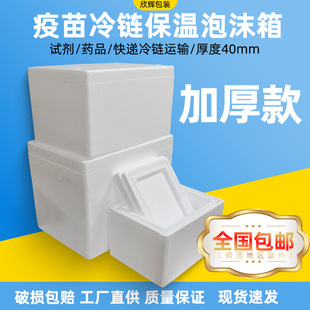Boxes: (28, 63, 223, 286)
